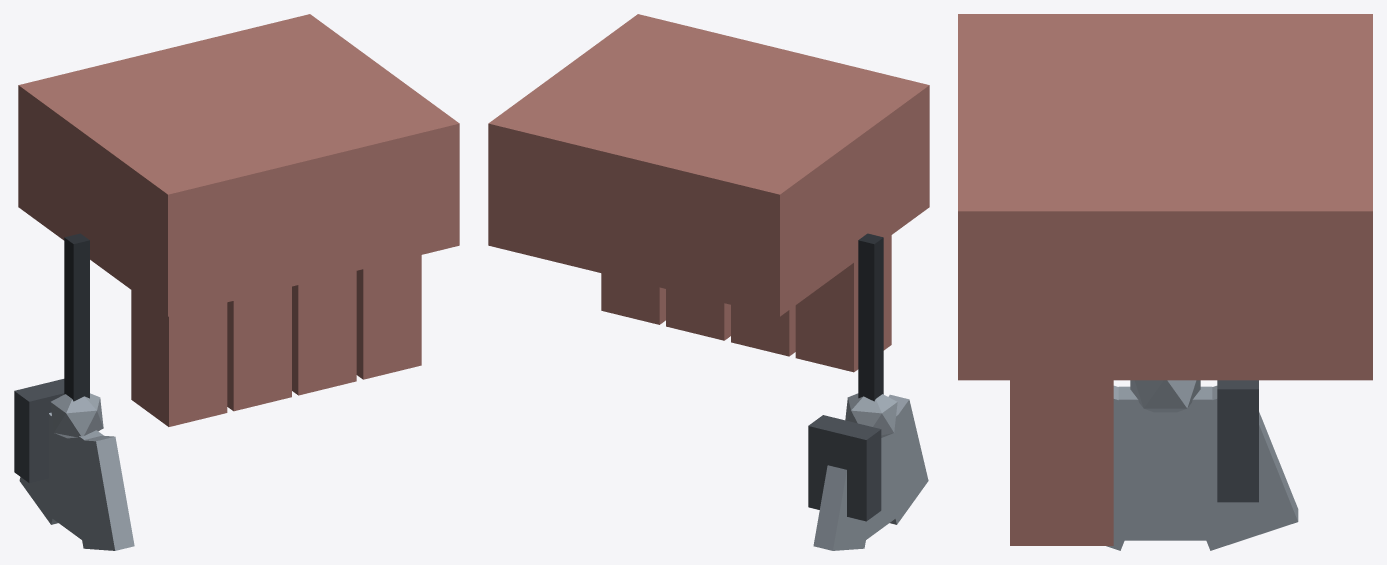
The model's file is inf_driver_hand_l.fbx.
The picture shows the model from 3 angles, left to right: view 1: azimuth 30°, elevation 25°; view 2: azimuth 150°, elevation 25°; view 3: azimuth 270°, elevation 25°; orthographic projection. The views are drawn at different scales.
Visible parts, largest first — view 1: inf_driver_hand_l; view 2: inf_driver_hand_l; view 3: inf_driver_hand_l.
Boxes of the visible parts, x1=… form: inf_driver_hand_l: x1=14, y1=14, x2=459, y2=550; inf_driver_hand_l: x1=488, y1=14, x2=929, y2=550; inf_driver_hand_l: x1=958, y1=14, x2=1372, y2=550.
Bounding box in the file's own units: 104 × 115 × 80.
